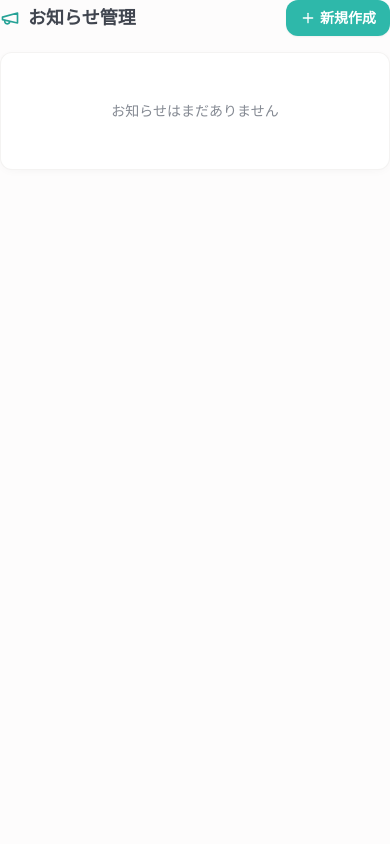
お知らせ管理の画面 › 🔴「全員から除く」で1人選んで配信 → save_announcement に except とその人を渡し、そのあと配信を起こす
Later steps or results of the test are not shown.
Expected: the heading "お知らせ管理" is shown, [0,4,136,32]
Click the button "新規作成" at {"x": 338, "y": 18}, box [286,0,389,36]
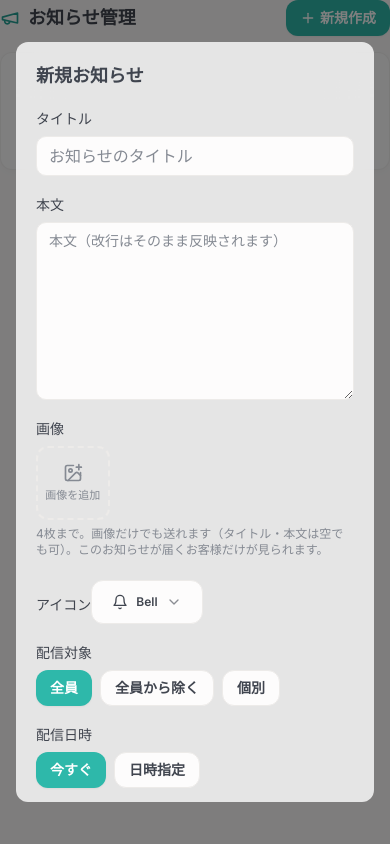
Type "空きが出ました" into the field with placeholder "お知らせのタイトル" at {"x": 195, "y": 156}, box [36,136,354,176]
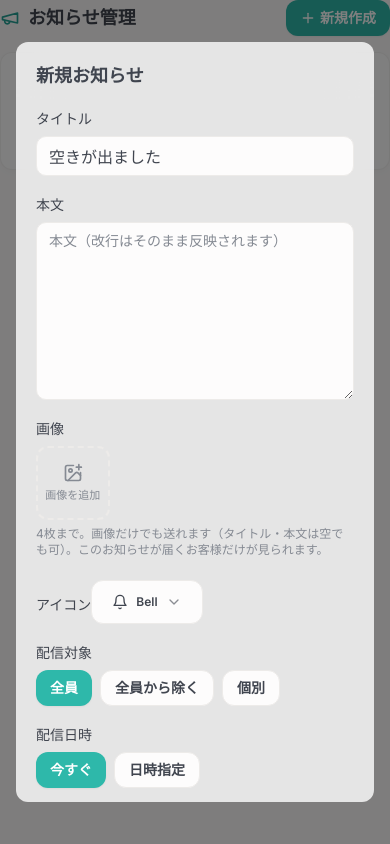
Type "ご予約ください" into the text box with placeholder "本文（改行はそのまま反映されます）" at {"x": 195, "y": 311}, box [36,222,354,400]
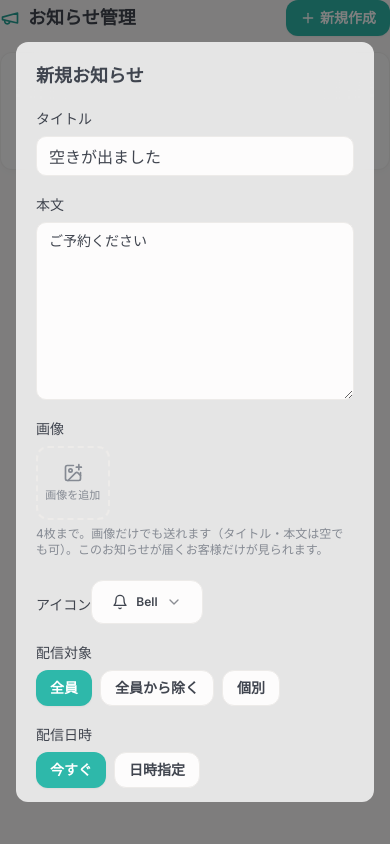
Click the button "全員から除く" at {"x": 157, "y": 688}, box [100,670,214,706]
(page scrolled)
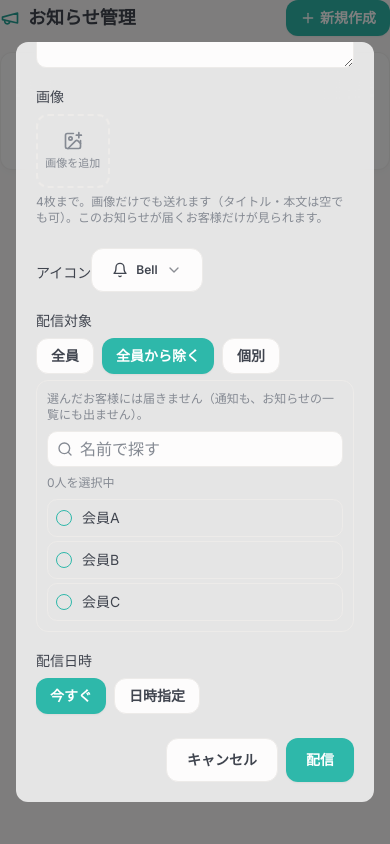
Expected: the text "選んだお客様には届きません（通知も、お知らせの一覧にも出ません）。" is shown, [47,391,343,423]
